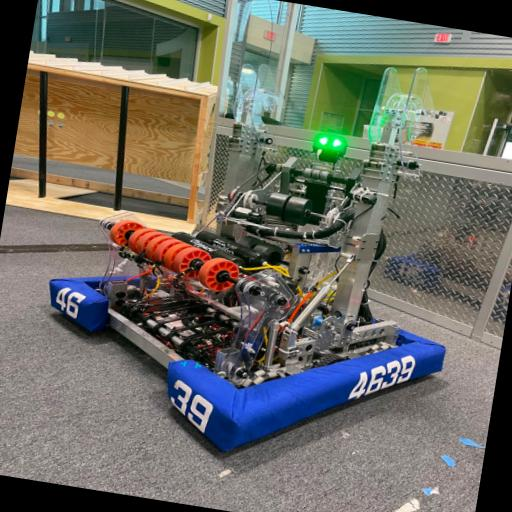robot: (24, 14, 492, 483), (24, 12, 492, 481)
